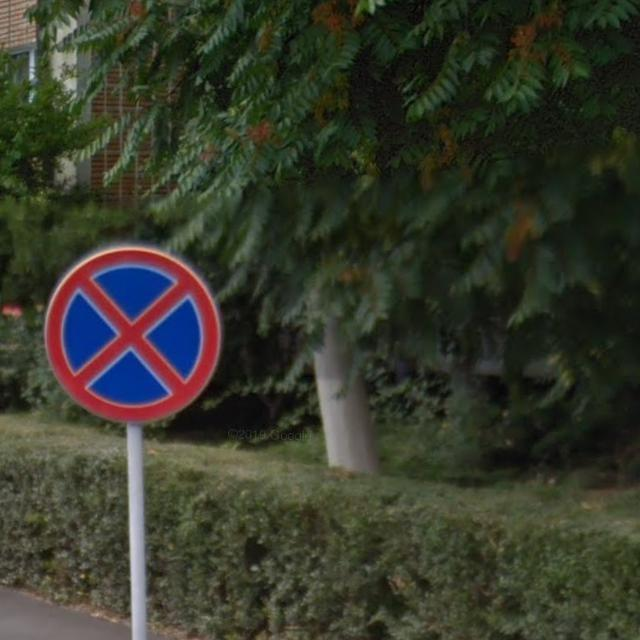forb_waiting: (42, 249, 222, 424)
